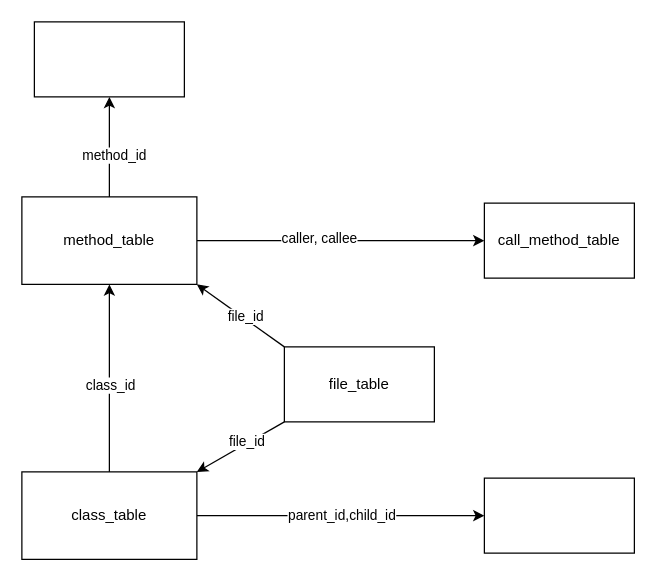
The diagram is 656 pixels wide and 581 high, and some of its shapes have lost their labels. The centre of each missing label's shape, as x and y in pixels:
"endpoint_table" belongs at (x=108, y=59).
"inherit_table" belongs at (x=558, y=515).
